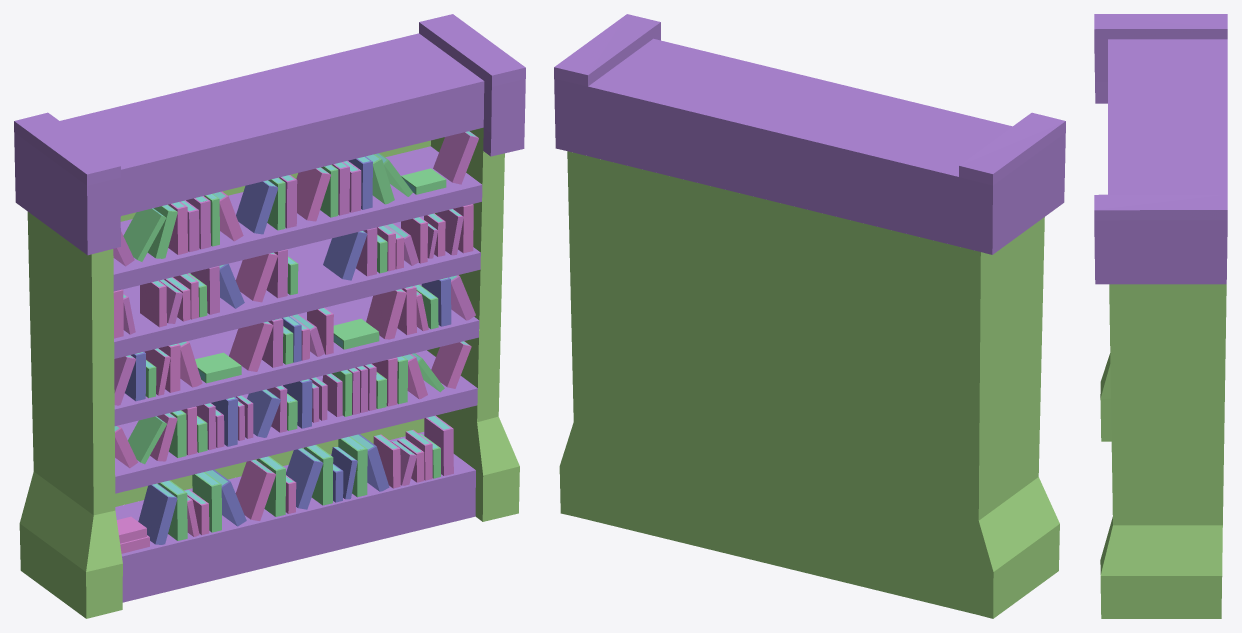
Rendered from BookCaseLargeBooks.glb.
3 renders of one model, left to right at view 1: azimuth 30°, elevation 25°; view 2: azimuth 150°, elevation 25°; view 3: azimuth 270°, elevation 25°, orthographic. The views are drawn at different scales.
Parts seen in each view (by area): view 1: BookCaseLargeBooks_0, BookCaseLargeBooks_1, BookCaseLargeBooks_2, BookCaseLargeBooks_4, BookCaseLargeBooks_5, BookCaseLargeBooks_3, BookCaseLargeBooks_6; view 2: BookCaseLargeBooks_1, BookCaseLargeBooks_0; view 3: BookCaseLargeBooks_1, BookCaseLargeBooks_0.
Part boxes in pixels (x1=…): BookCaseLargeBooks_0: x1=14, y1=14, x2=525, y2=602; BookCaseLargeBooks_1: x1=19, y1=127, x2=519, y2=618; BookCaseLargeBooks_2: x1=113, y1=167, x2=473, y2=553; BookCaseLargeBooks_4: x1=123, y1=153, x2=446, y2=540; BookCaseLargeBooks_5: x1=113, y1=131, x2=478, y2=485; BookCaseLargeBooks_3: x1=125, y1=156, x2=451, y2=544; BookCaseLargeBooks_6: x1=114, y1=131, x2=475, y2=504; BookCaseLargeBooks_1: x1=559, y1=151, x2=1059, y2=618; BookCaseLargeBooks_0: x1=554, y1=14, x2=1065, y2=254; BookCaseLargeBooks_1: x1=1100, y1=284, x2=1226, y2=618; BookCaseLargeBooks_0: x1=1094, y1=14, x2=1227, y2=284.
Bounding box in the file's own units: 1.57 × 1.53 × 0.452.
